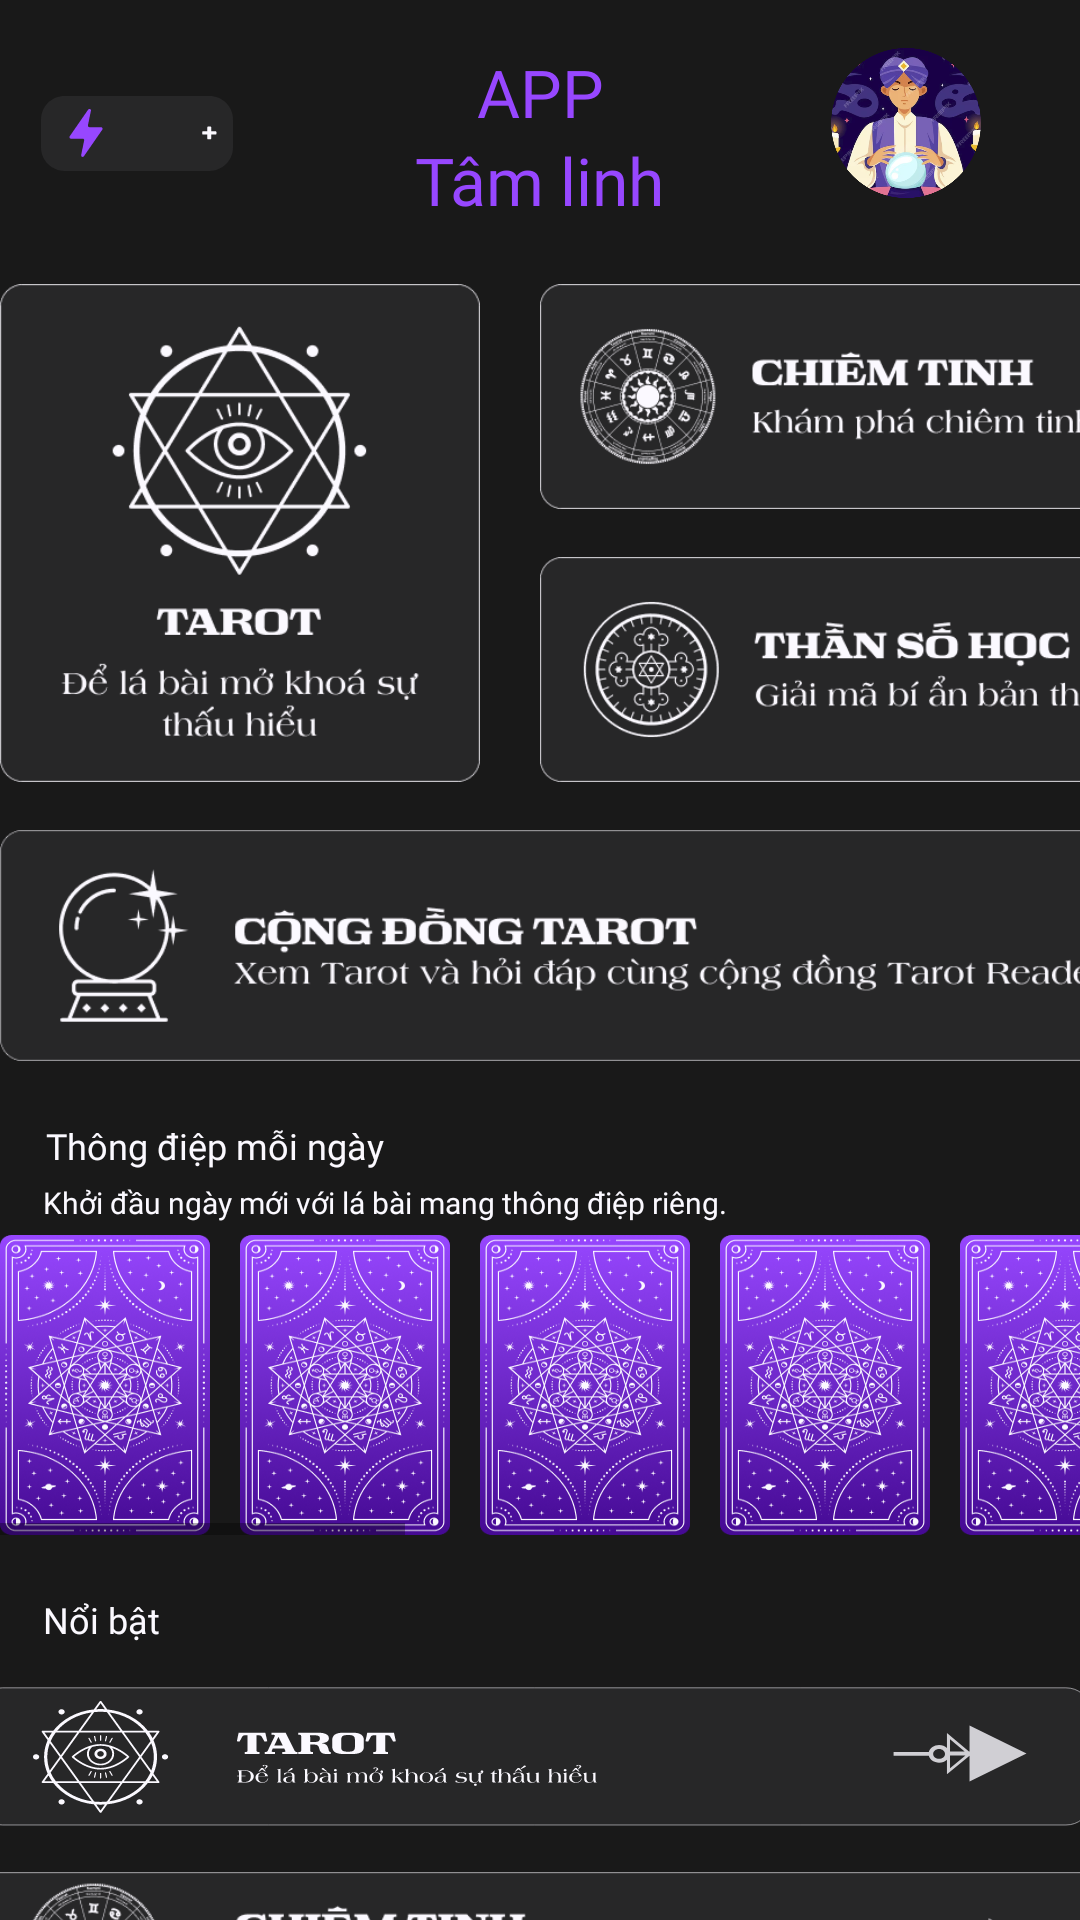

Point at icon controls on the screen. Image size 1080 × 1920, points as [x,y].
ava: [906,123]
